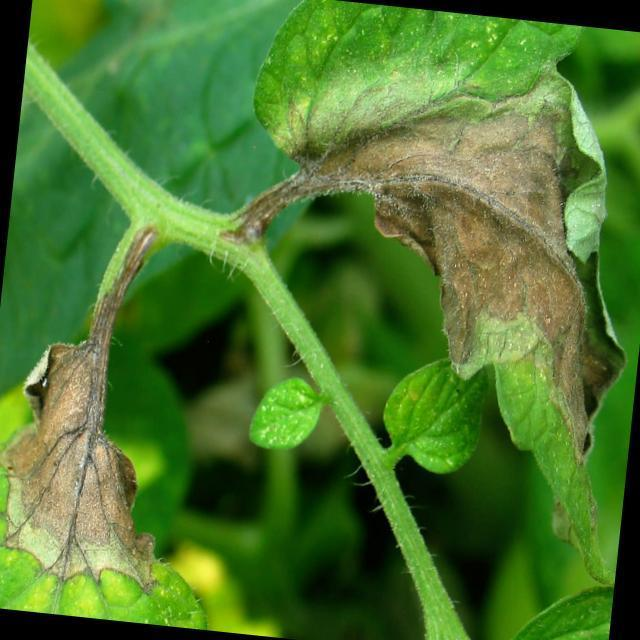Healthy Leaf: (243, 375, 335, 465)
